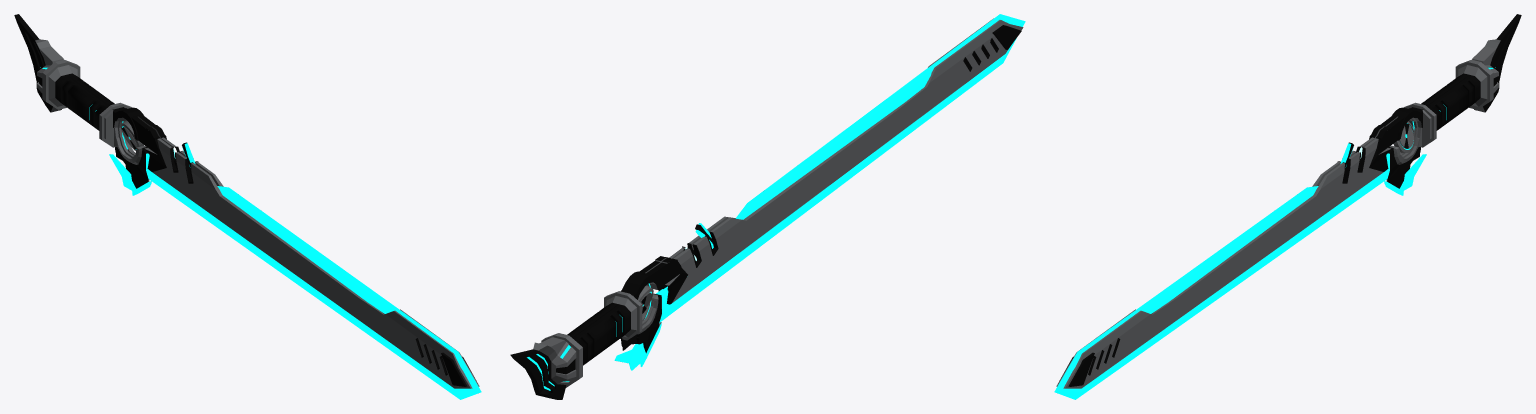
Rendered from espada-neon-blade.glb.
The picture shows the model from 3 angles, left to right: view 1: azimuth 30°, elevation 25°; view 2: azimuth 150°, elevation 25°; view 3: azimuth 330°, elevation 25°; orthographic projection. The views are drawn at different scales.
Visible parts, largest first — view 1: Cube; view 2: Cube; view 3: Cube, Cube.001.
Boxes of the visible parts, x1,y1,x2,y2 form: Cube: [14, 14, 481, 399]; Cube: [510, 14, 1025, 399]; Cube: [1054, 14, 1521, 399]; Cube.001: [1393, 121, 1415, 153].
Bounding box in the file's own units: 0.8628 × 2.3 × 20.19.
Materials: 5 (1 with a texture image).
